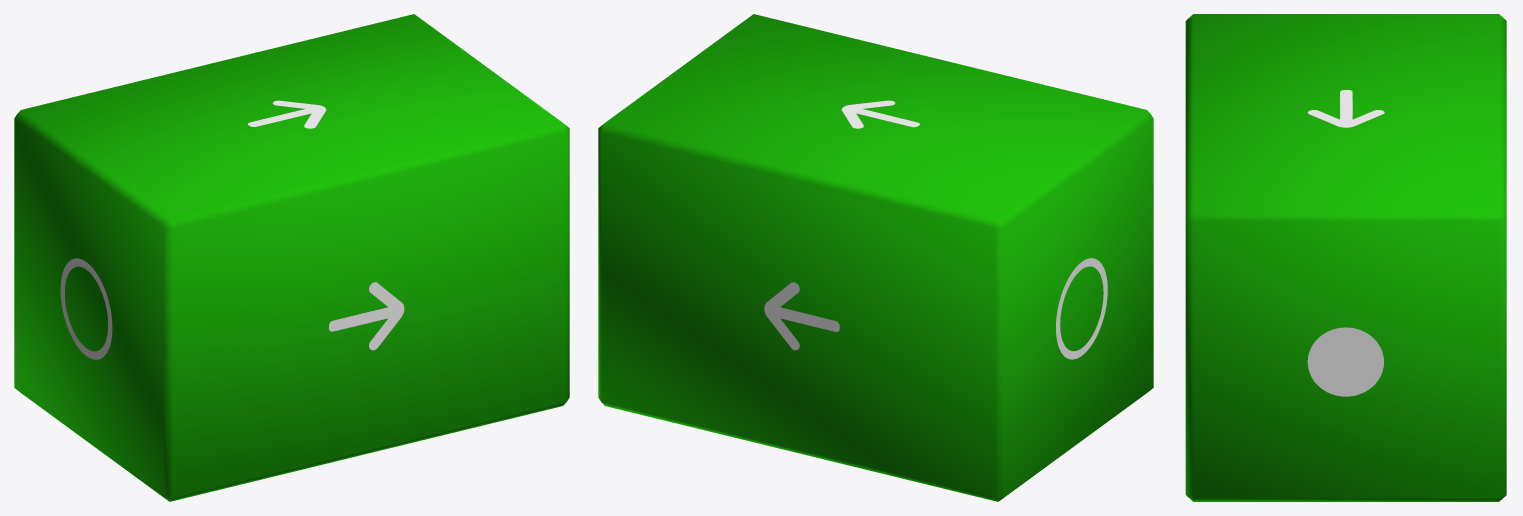
Rendered from BigBoxTapFlowBox_2_2_3_Clean_test2.fbx.
The picture shows the model from 3 angles, left to right: view 1: azimuth 30°, elevation 25°; view 2: azimuth 150°, elevation 25°; view 3: azimuth 270°, elevation 25°; orthographic projection. The views are drawn at different scales.
Parts seen in each view (by area): view 1: BigBoxTapFlowBox_2_2_3_Clean_test; view 2: BigBoxTapFlowBox_2_2_3_Clean_test; view 3: BigBoxTapFlowBox_2_2_3_Clean_test.
Part boxes in pixels (x1,y1,x2,y2): BigBoxTapFlowBox_2_2_3_Clean_test: (14, 14, 569, 501); BigBoxTapFlowBox_2_2_3_Clean_test: (598, 14, 1153, 501); BigBoxTapFlowBox_2_2_3_Clean_test: (1185, 14, 1506, 501).
Size of the model in its own units: 3.18 by 2.13 by 2.13.
1 material, 1 textured.
